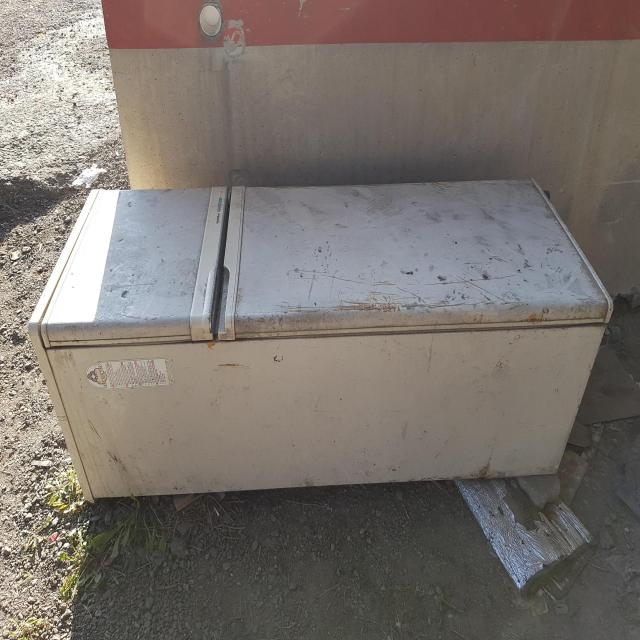refrigerator: (27, 172, 615, 504)
